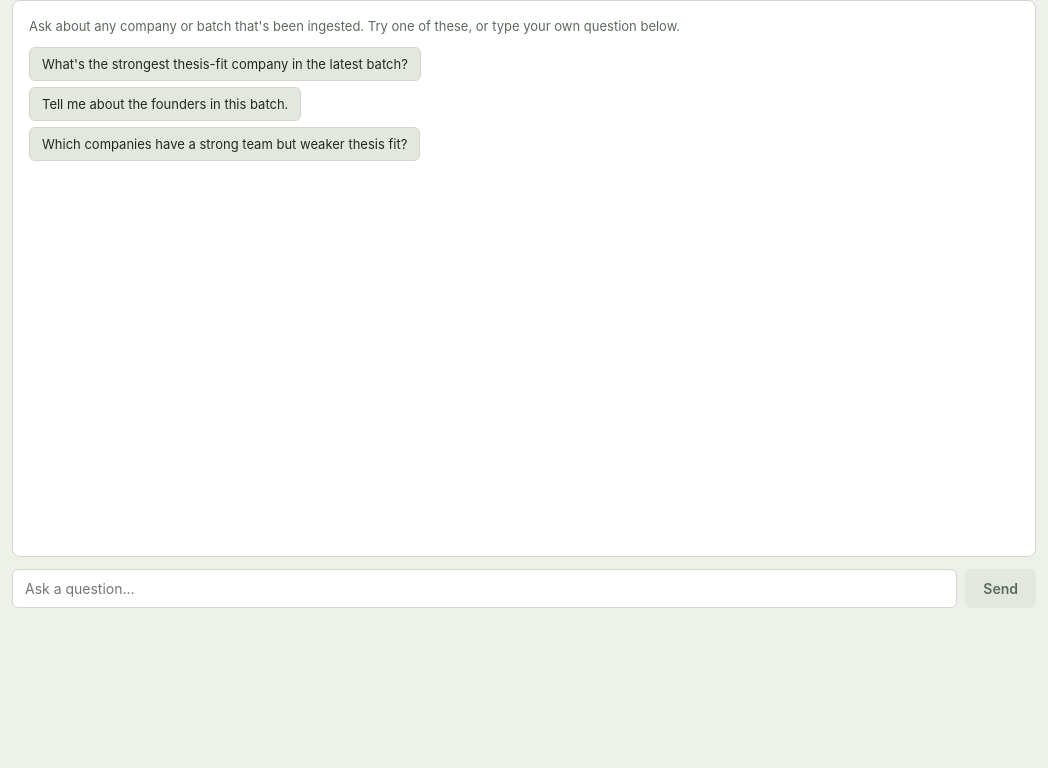
ChatPanel › clicking an example prompt sends it immediately
Click the button "Tell me about the founders in this batch.": {"x": 165, "y": 104} x1=29 y1=86 x2=301 y2=120
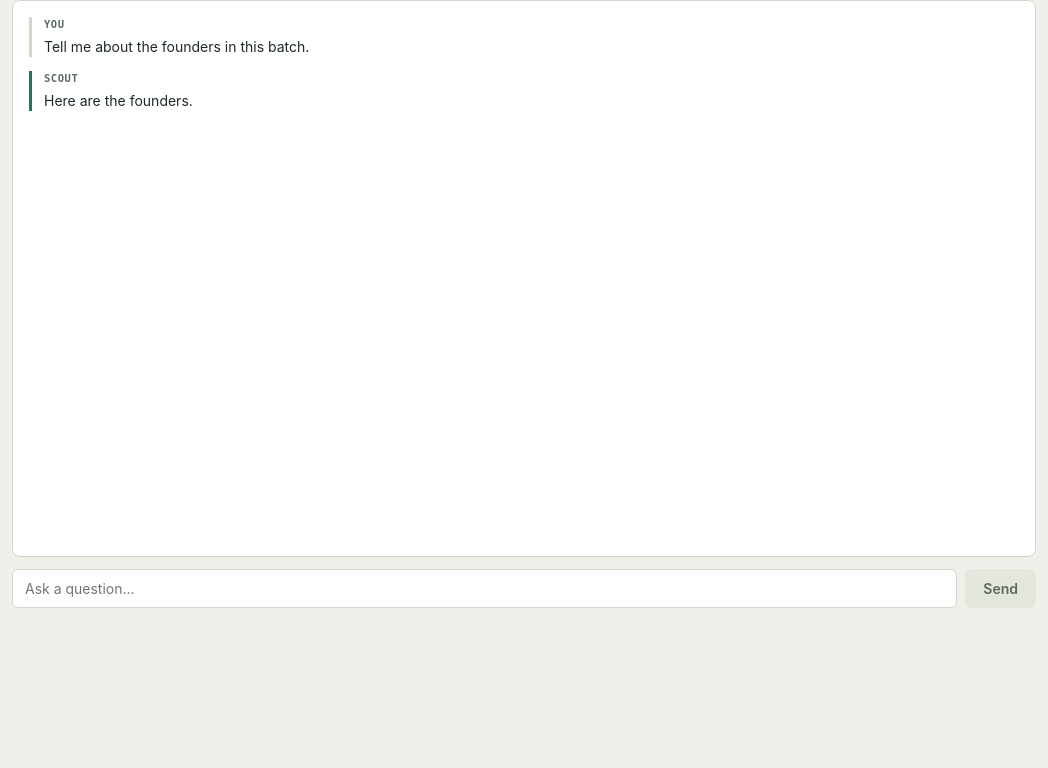
Expected: the text "Here are the founders." is shown, x1=44 y1=92 x2=193 y2=108
